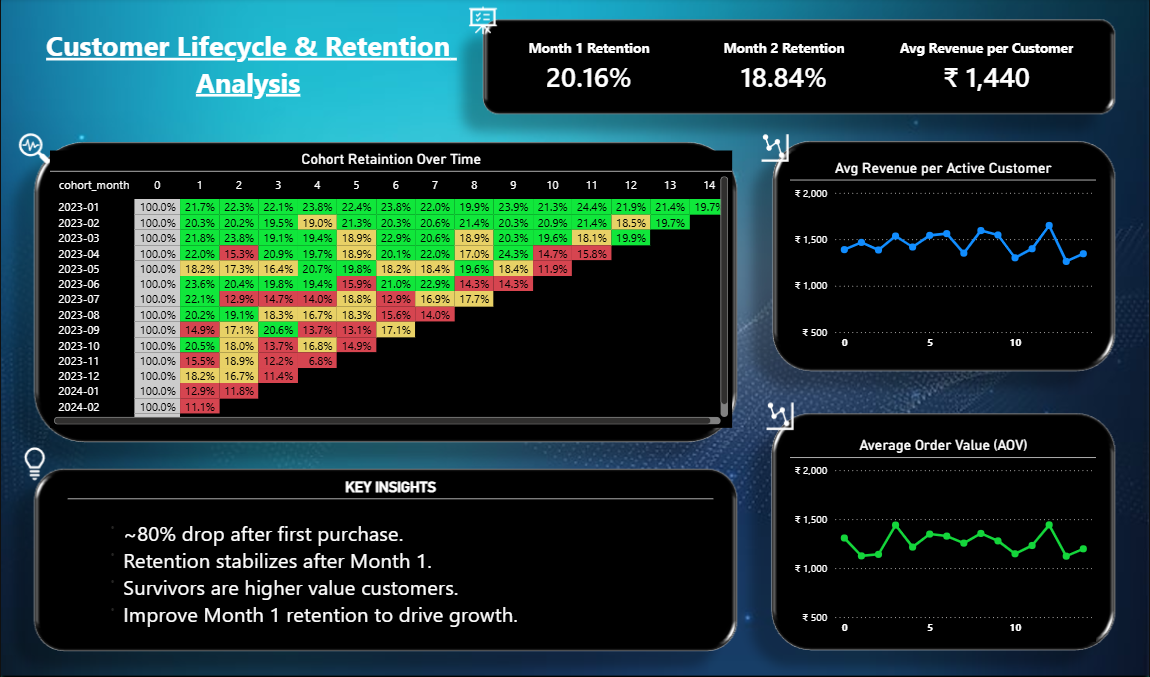

Layout of this report page (visuals, bound fields, positions):
{"tool":"powerbi","page":{"name":"Customer Lifecycle & Retention Analysis","canvas":[1350,800],"ordinal":2},"visuals":[{"type":"textbox","box":[41.1,29.3,500.4,101.2],"z":6000},{"type":"cardVisual","fields":{"Data":["Cohort Analysis Final.Month0_Retention"]},"box":[816.5,29.9,209.8,101.2],"z":7000},{"type":"cardVisual","fields":{"Data":["Cohort Analysis Final.Avg Revenue per Active Customer"]},"box":[1026.3,29.9,265.6,101.2],"z":8000},{"type":"pivotTable","title":"Cohort Retaintion Over Time","fields":{"Rows":["Cohort Analysis Final.cohort_month"],"Columns":["Cohort Analysis Final.month_number"],"Values":["Sum(Cohort Analysis Final.RetaintionPT)"]},"box":[58.7,179,801.2,325.8],"z":9000},{"type":"cardVisual","fields":{"Data":["Cohort Analysis Final.Month1 Retention (Weighted)"]},"box":[590.5,29.9,204,101.2],"z":10000},{"type":"lineChart","title":"Avg Revenue per Active Customer","fields":{"Category":["Cohort Analysis Final.month_number"],"Y":["Cohort Analysis Final.Avg Revenue per Active Customer"]},"box":[927.4,189.3,359.5,231.8],"z":11000},{"type":"lineChart","title":"Average Order Value (AOV)","fields":{"Category":["Cohort Analysis Final.month_number"],"Y":["Avg(Cohort Analysis Final.avg_order_value)"]},"box":[927.4,515.1,359.5,240.7],"z":12000},{"type":"textbox","title":"KEY INSIGHTS","box":[79.2,563.5,758.6,192.2],"z":13000}]}

Visuals, with their boxes in screenshot pixels (x1, y1, x2, y2), scaled from the page's 1350x800 canvas onto the 1150x677 screenshot:
textbox: 35,25,461,110
cardVisual - Cohort Analysis Final.Month0_Retention: 696,25,874,111
cardVisual - Cohort Analysis Final.Avg Revenue per Active Customer: 874,25,1101,111
"Cohort Retaintion Over Time" pivotTable: 50,151,733,427
cardVisual - Cohort Analysis Final.Month1 Retention (Weighted): 503,25,677,111
"Avg Revenue per Active Customer" lineChart: 790,160,1096,356
"Average Order Value (AOV)" lineChart: 790,436,1096,640
"KEY INSIGHTS" textbox: 67,477,714,640
